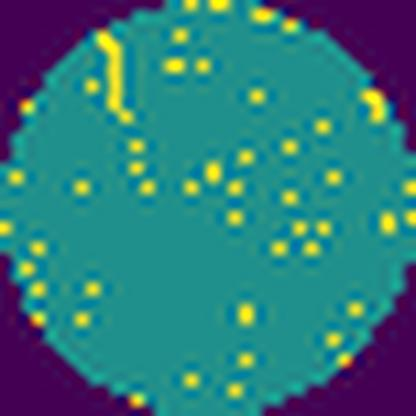Scratch: (89, 24, 137, 126)
